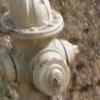Hydrant: (3, 2, 84, 100)
